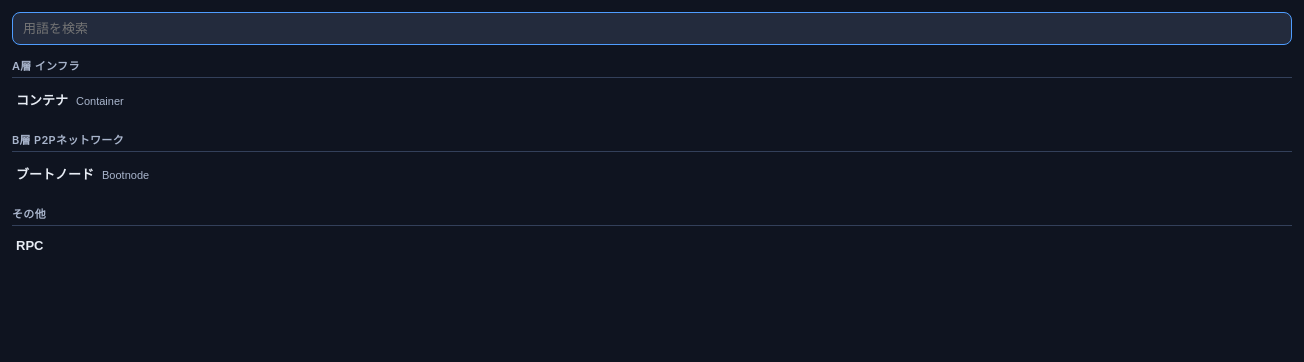
GlossaryPanelView: single-expansion accordion › expands a row on click and shows the full (unclamped) definition
Step 1. Click the button with class "glossary-panel__row-header" showing "コンテナ Container" → (42, 100), box [12,82,1292,117]
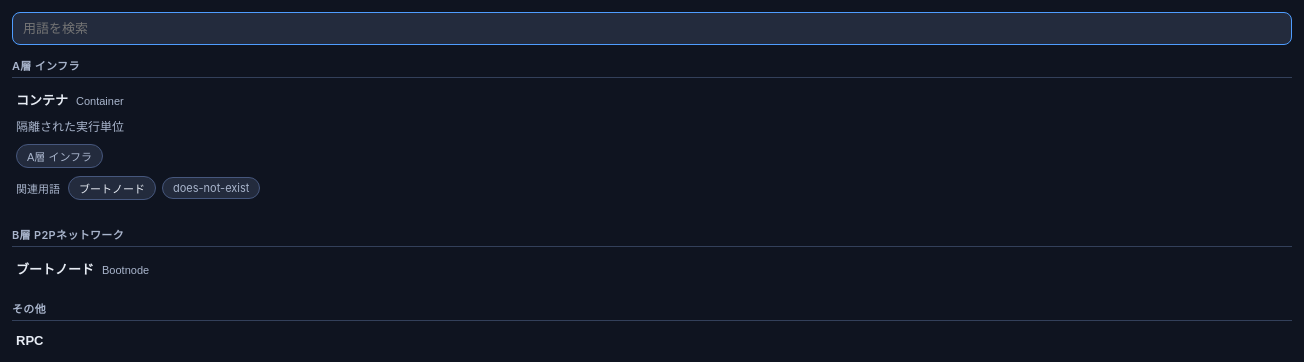
expect the text with class "glossary-panel__row-definition" reads "隔離された実行単位": met, box [16,119,124,134]
